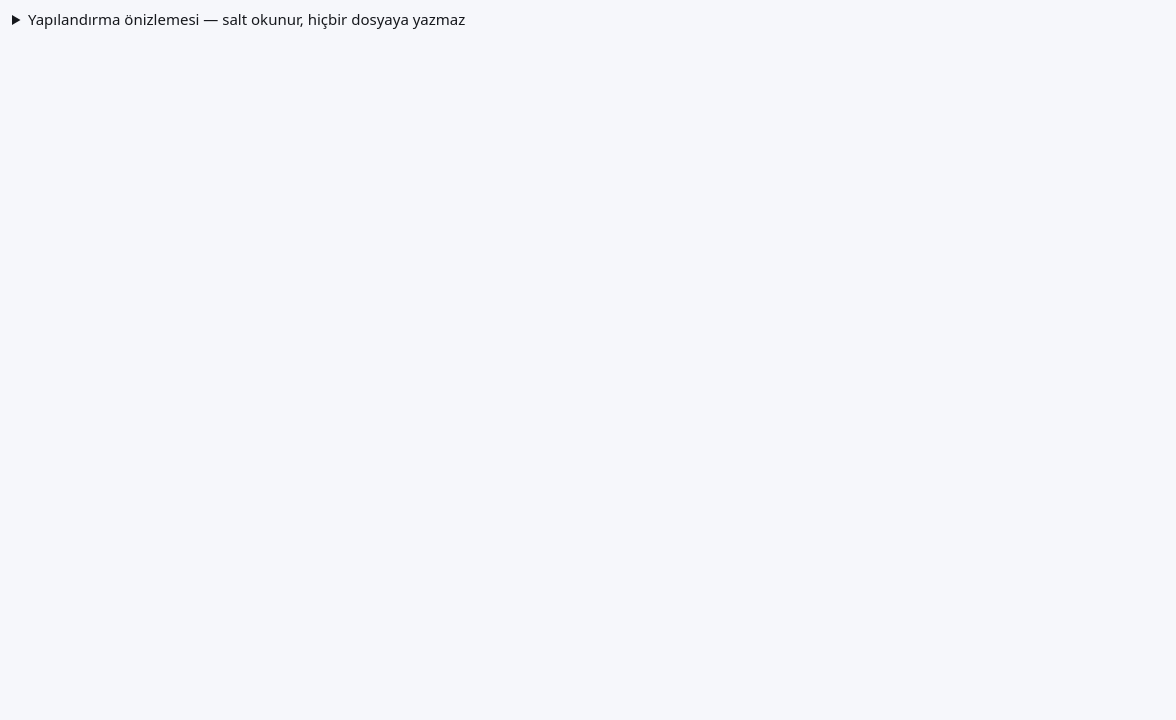
opt-in, one click = one call, saying no › an error from the backend is shown as a fixed sentence chosen by its code, never its message
The width and height of the screenshot is (1176, 720).
Click the heading "Yapılandırma önizlemesi — salt okunur, hiçbir dosyaya yazmaz". click: (247, 19)
box: [28,9,465,29]
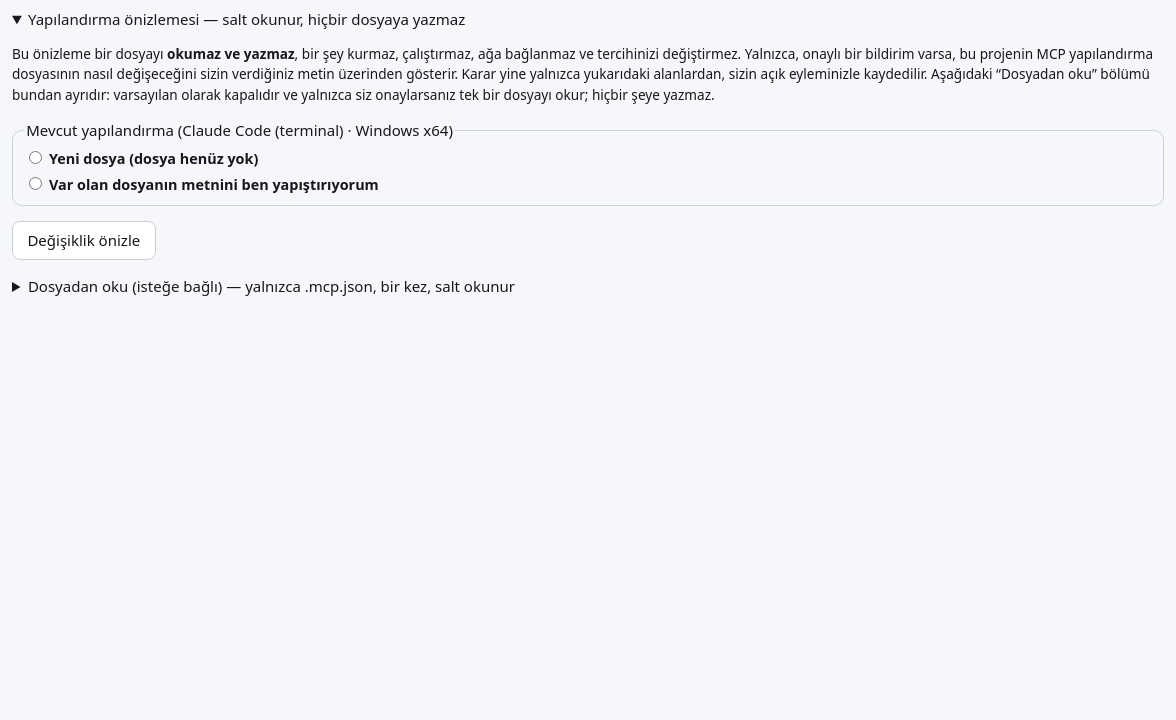
Click the heading "Dosyadan oku (isteğe bağlı) — yalnızca .mcp.json, bir kez, salt okunur". click: (271, 286)
box: [28,276,515,296]
(page scrolled)
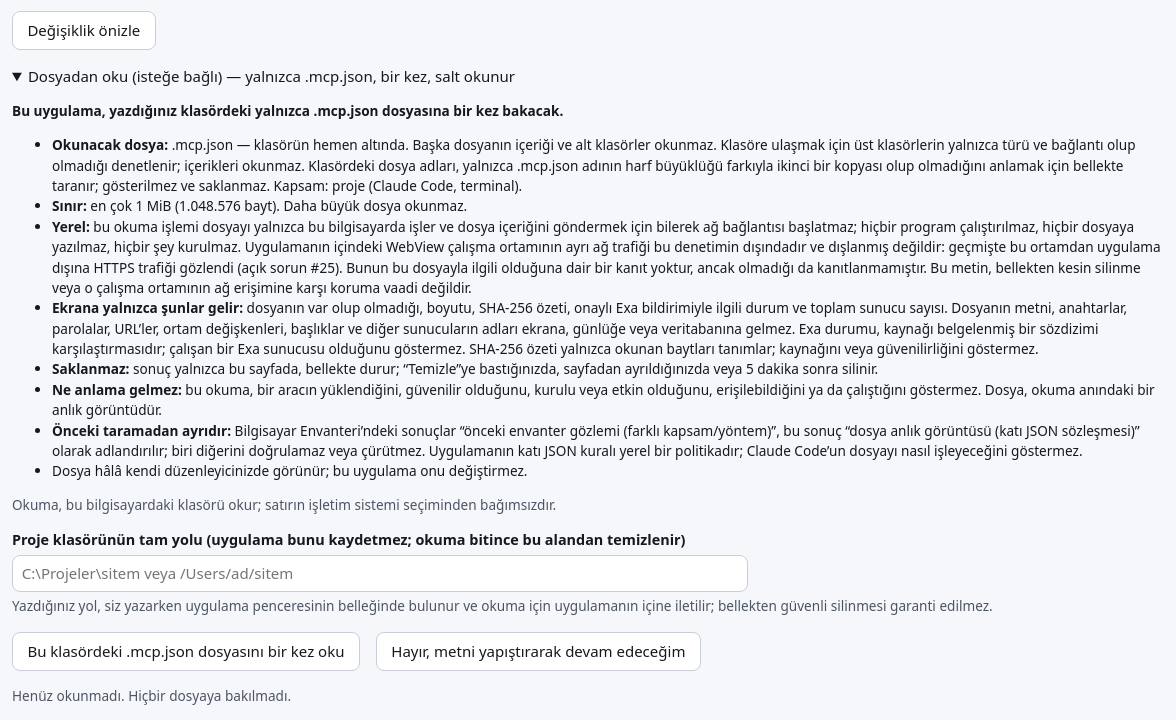
Type "C:\\Projeler\\sitem" into the field labelled "Proje klasörünün tam yolu". click: (380, 574)
box: [12,555,748,592]
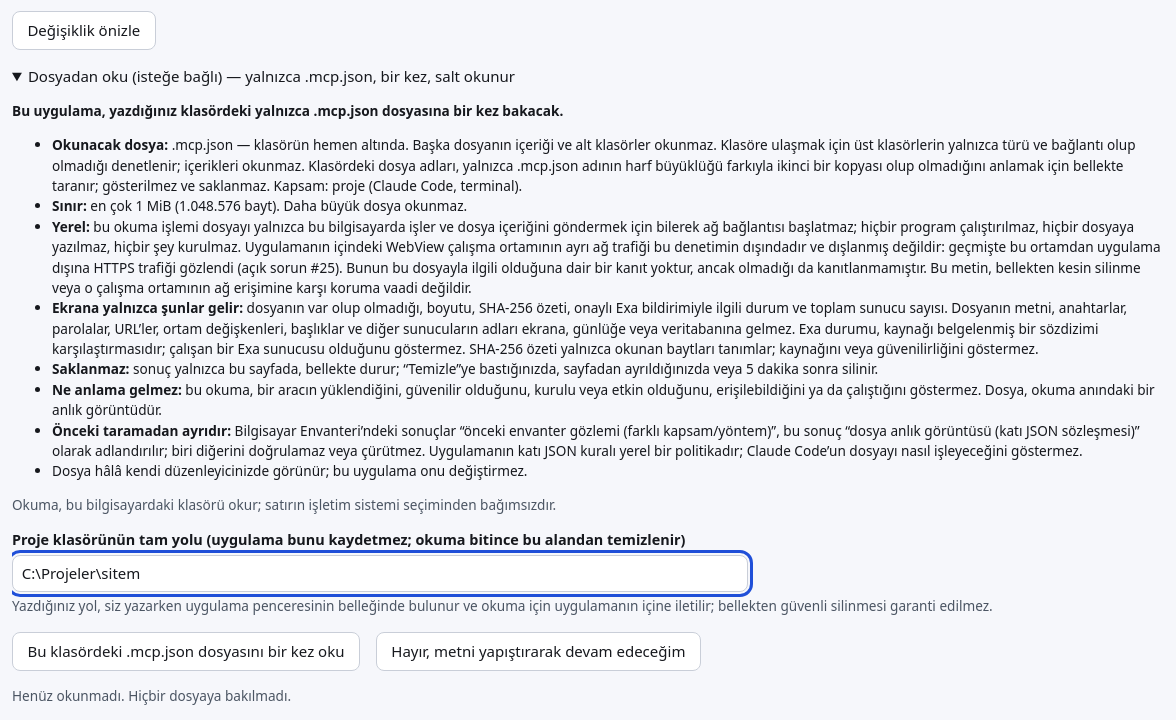
Click the button "Bu klasördeki .mcp.json dosyasını bir kez oku". click: (186, 651)
box: [12,632,360,671]
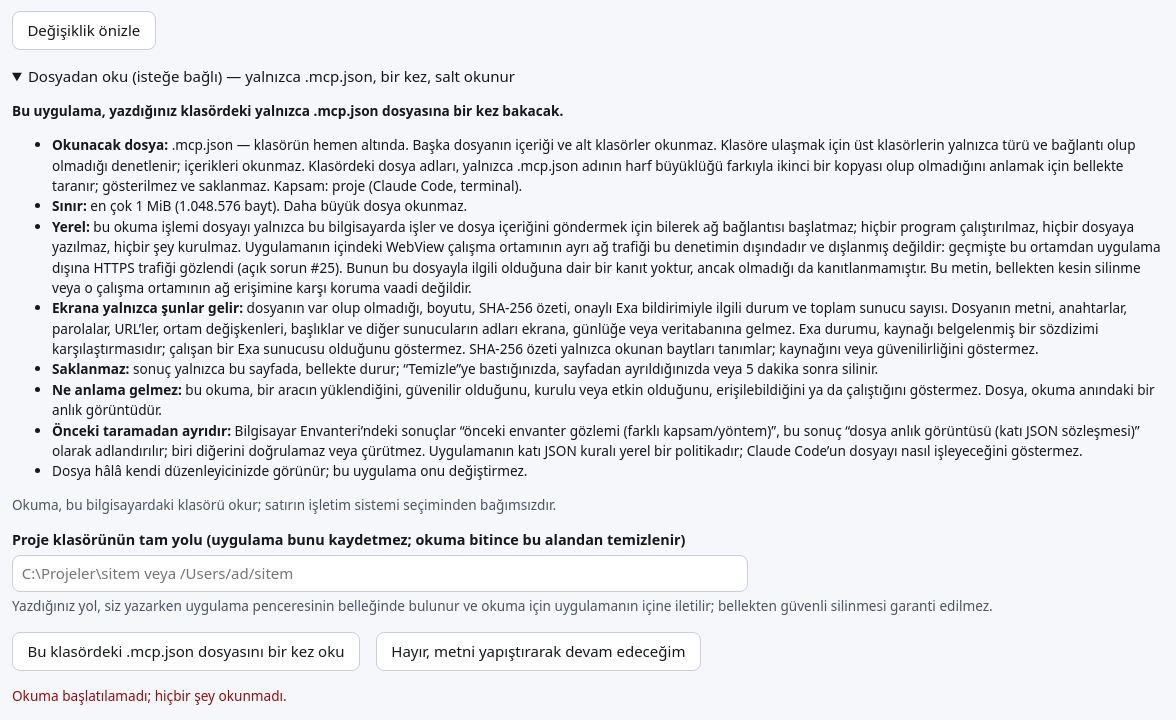
expect the text "Okuma başlatılamadı; hiçbir şey okunmadı." is shown: met, box [12,686,287,704]
